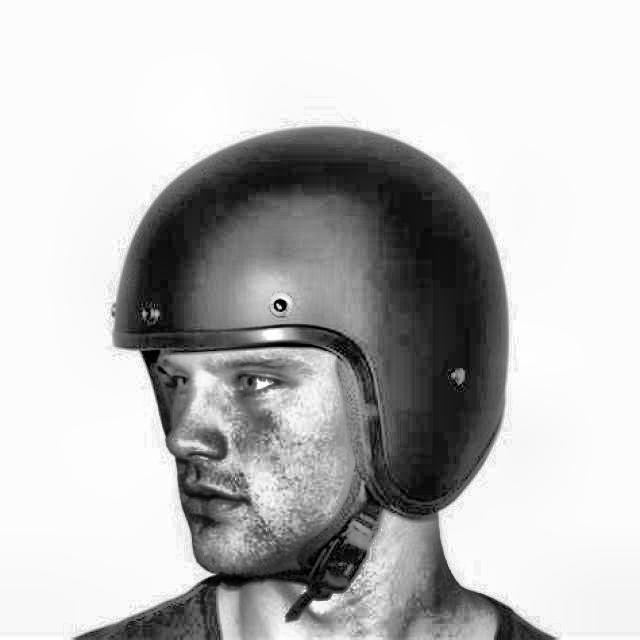Helmet: (102, 113, 520, 608)
